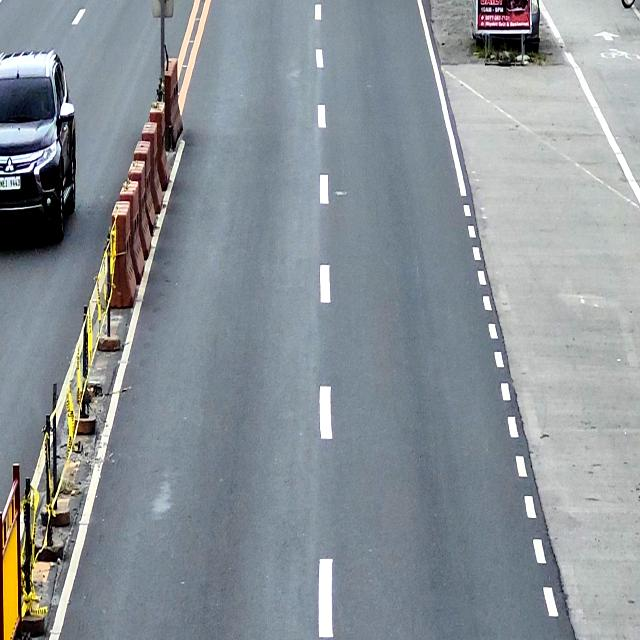Car: (0, 48, 77, 242)
License-Plate: (0, 176, 22, 192)
